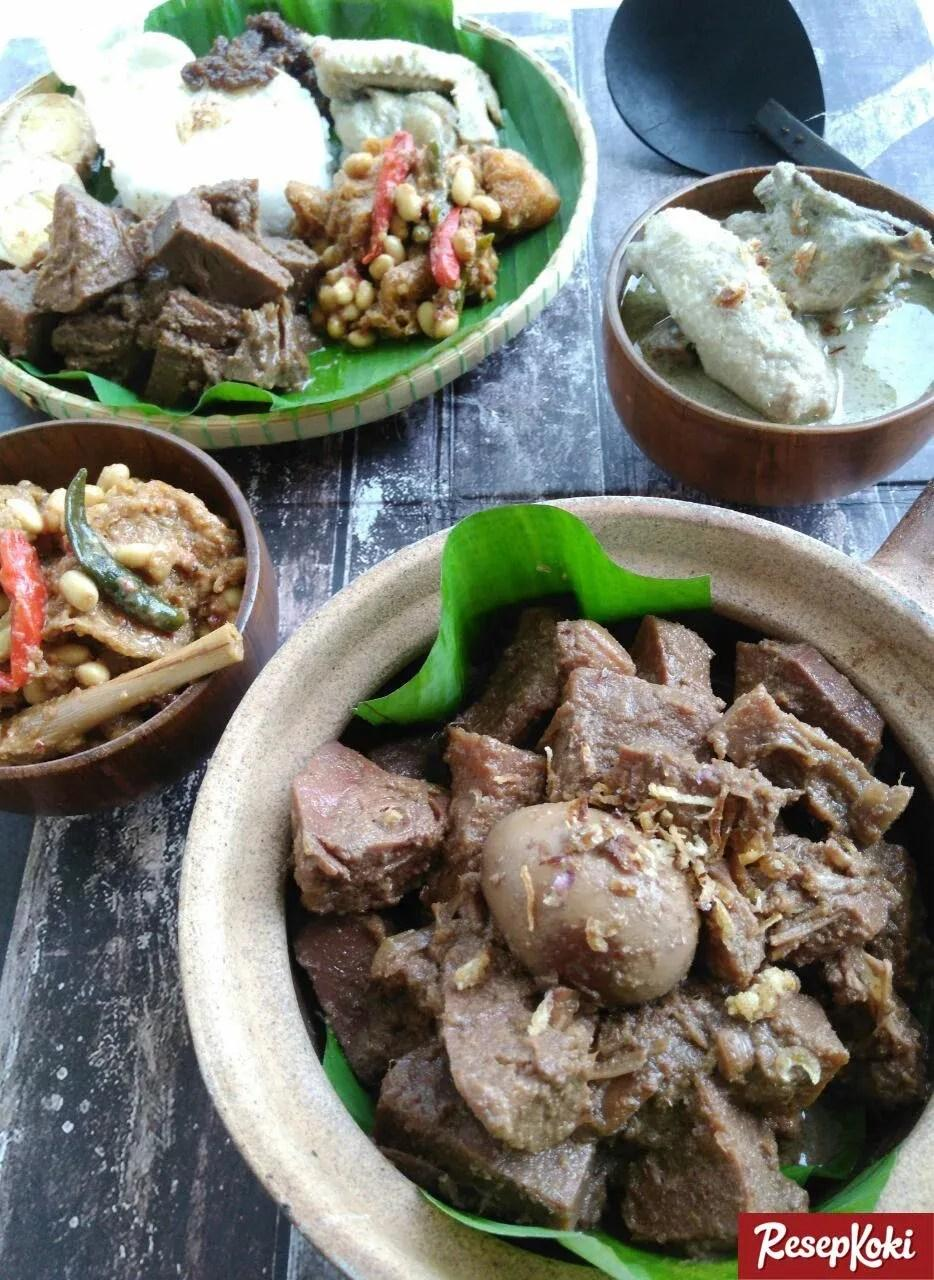gudeg: (291, 617, 927, 1209), (2, 12, 559, 390)
